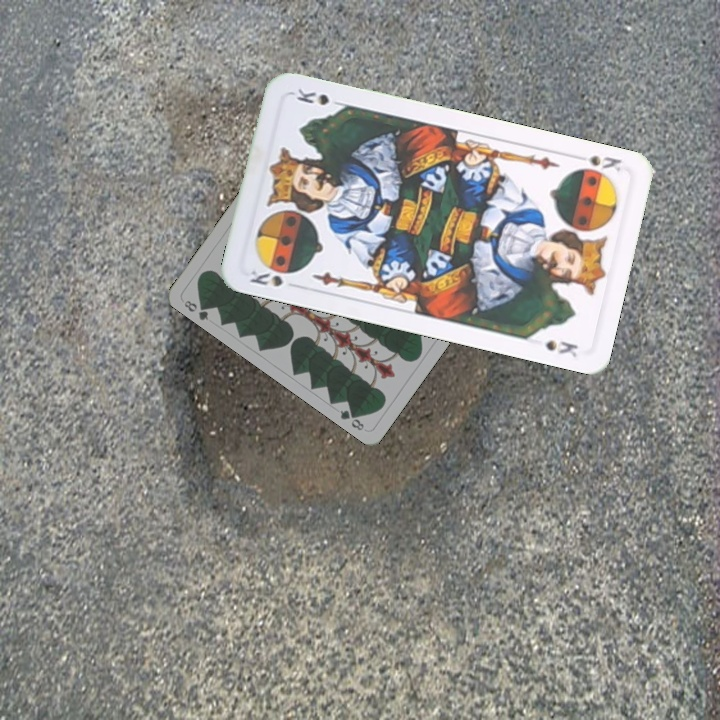G8: (180, 296, 212, 323)
SK: (570, 150, 625, 175), (246, 266, 286, 290)
